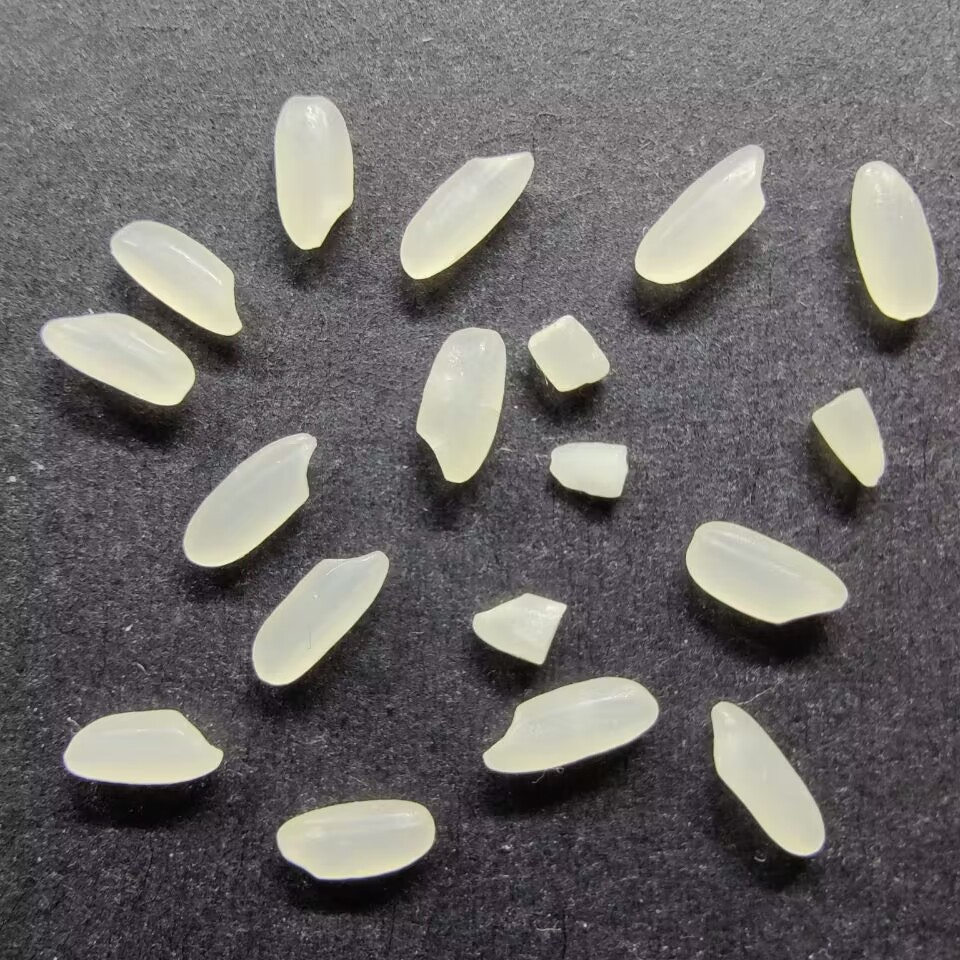broken: (809, 386, 889, 489), (470, 590, 568, 668), (526, 314, 612, 393), (547, 440, 629, 499)
rice: (632, 142, 767, 286), (250, 549, 390, 686), (181, 431, 319, 568), (707, 700, 827, 857), (684, 518, 851, 626), (398, 149, 534, 281), (479, 676, 659, 774), (108, 216, 245, 337), (412, 325, 509, 485), (849, 158, 939, 322), (39, 313, 195, 406), (275, 797, 436, 882), (272, 94, 355, 250), (61, 709, 224, 785)
